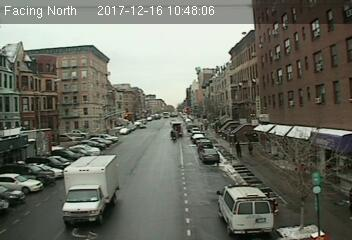car: (199, 148, 221, 163)
pedestrian: (233, 141, 243, 158)
police: (214, 180, 276, 233)
truck: (60, 153, 122, 225), (171, 121, 183, 138)
